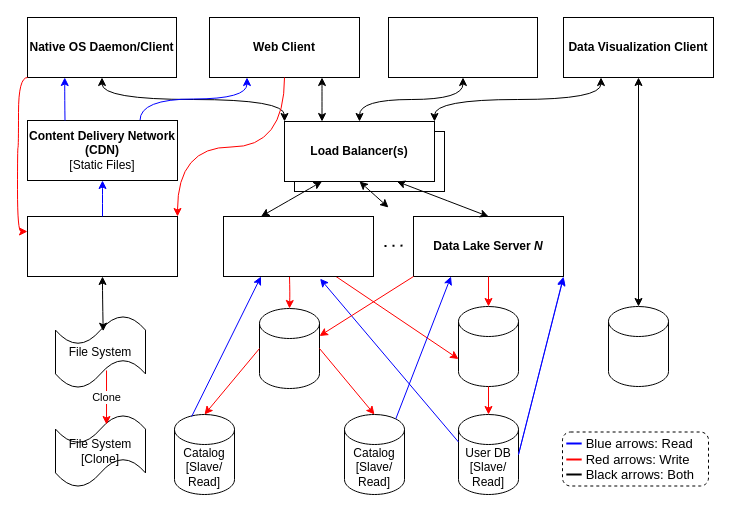
Some shapes in this 731 by 512 pixel diagram are drawn without their labels. Each missing label, with the box of its shape:
Blob Store Server: (26, 216, 178, 276)
Catalog [Master/ Write]: (258, 308, 320, 388)
Data Lake Server 1: (222, 216, 374, 276)
Third-Party Clients: (388, 16, 538, 78)
Time-series: (608, 306, 668, 386)
User DB [Master/ Write]: (458, 306, 518, 386)
